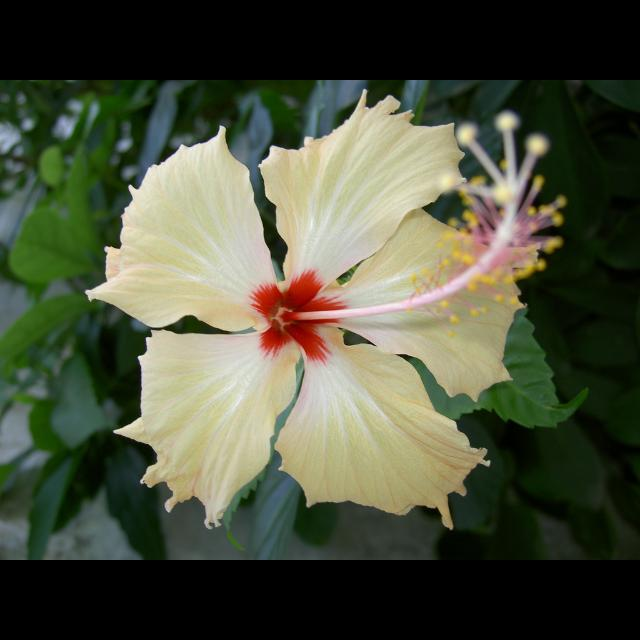Flower: (93, 98, 521, 536)
